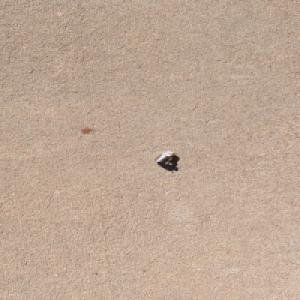MetalPart: (153, 150, 176, 166)
